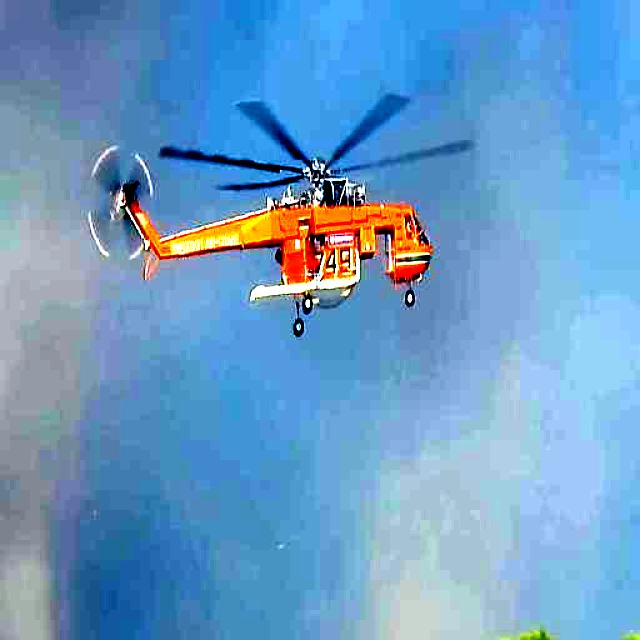drone: (80, 81, 480, 346)
